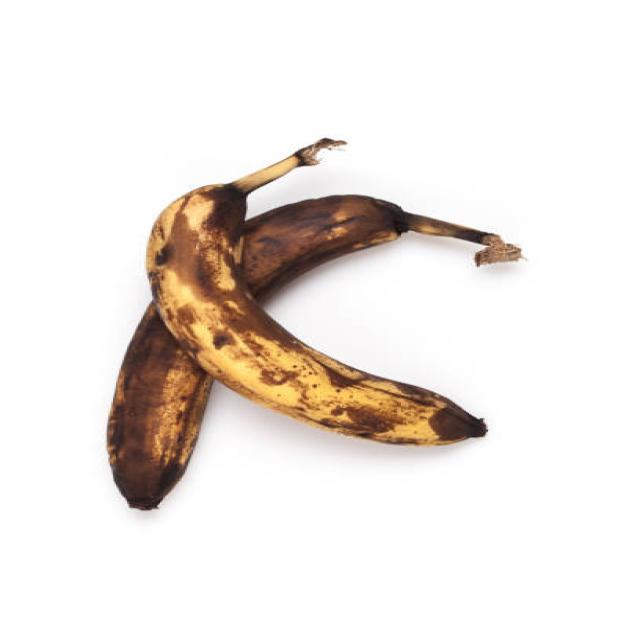overripe: (140, 175, 493, 446)
